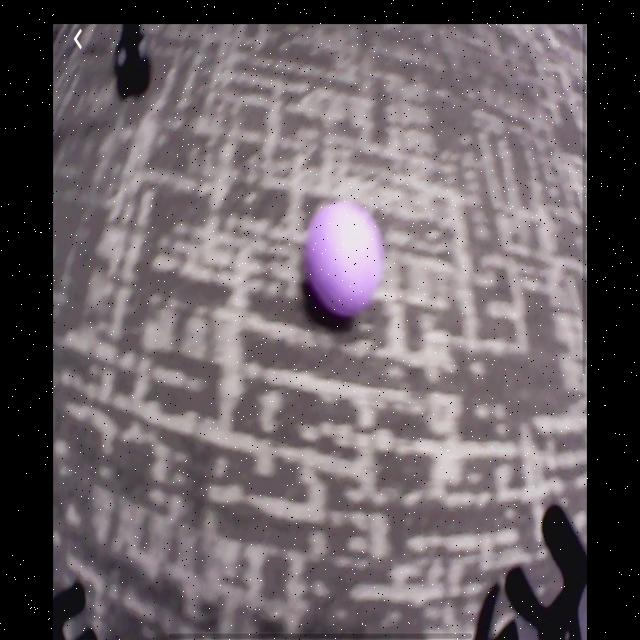ball: (308, 200, 387, 317)
